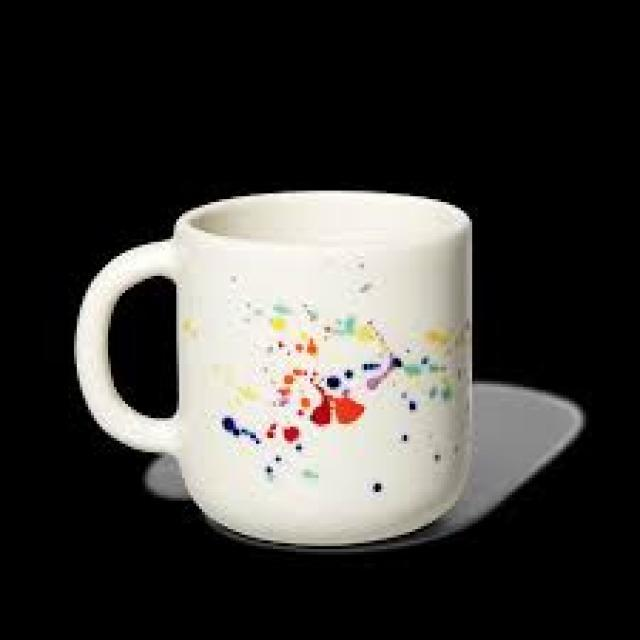taza: (76, 188, 472, 546)
